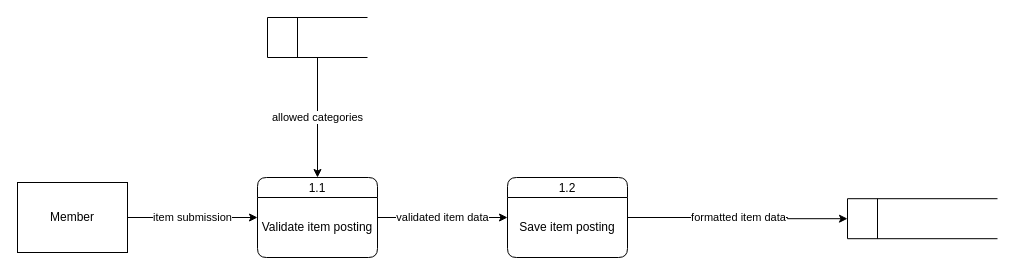
This 1015x275 diagram has some shape labels left out. Here are the shapes that lost their labels. From the top down, the box of each, then its label:
(266, 16, 368, 58): Category
(846, 198, 998, 239): Item & Item Image
